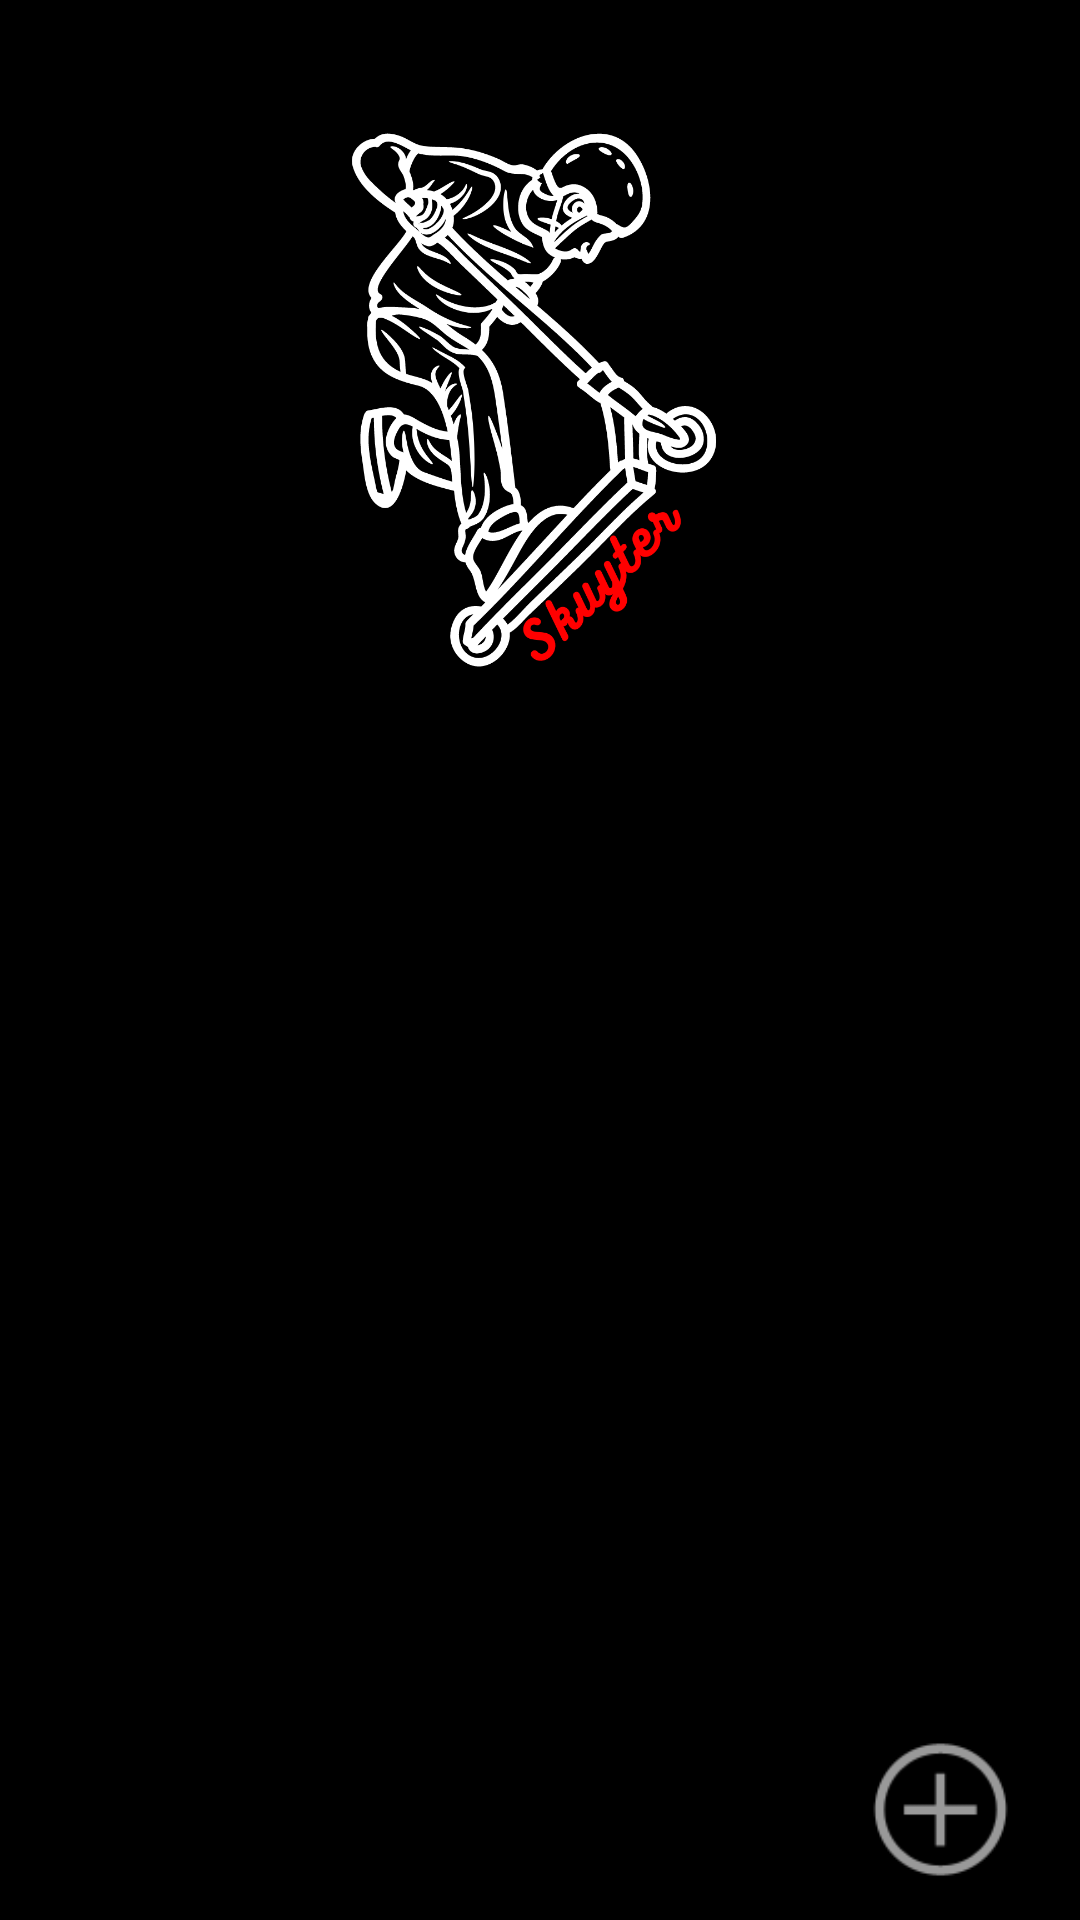

Locate icon controls on the screen. Image size 1080px x 1920px, boxes as bbox=[x1, y1, x2, y2].
add: bbox=[874, 1743, 1007, 1876]
